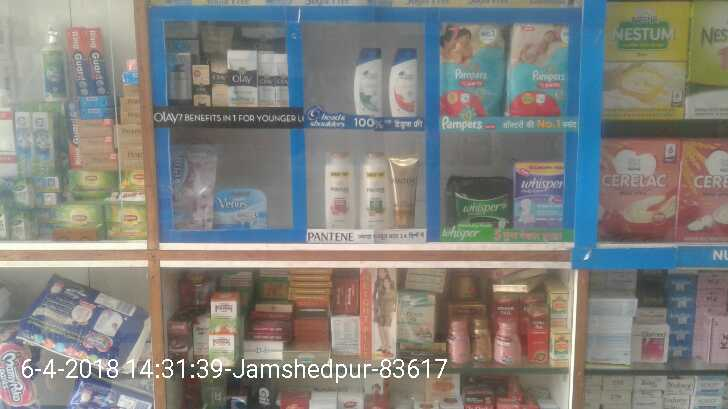venus: (174, 145, 217, 231), (217, 189, 267, 231)
